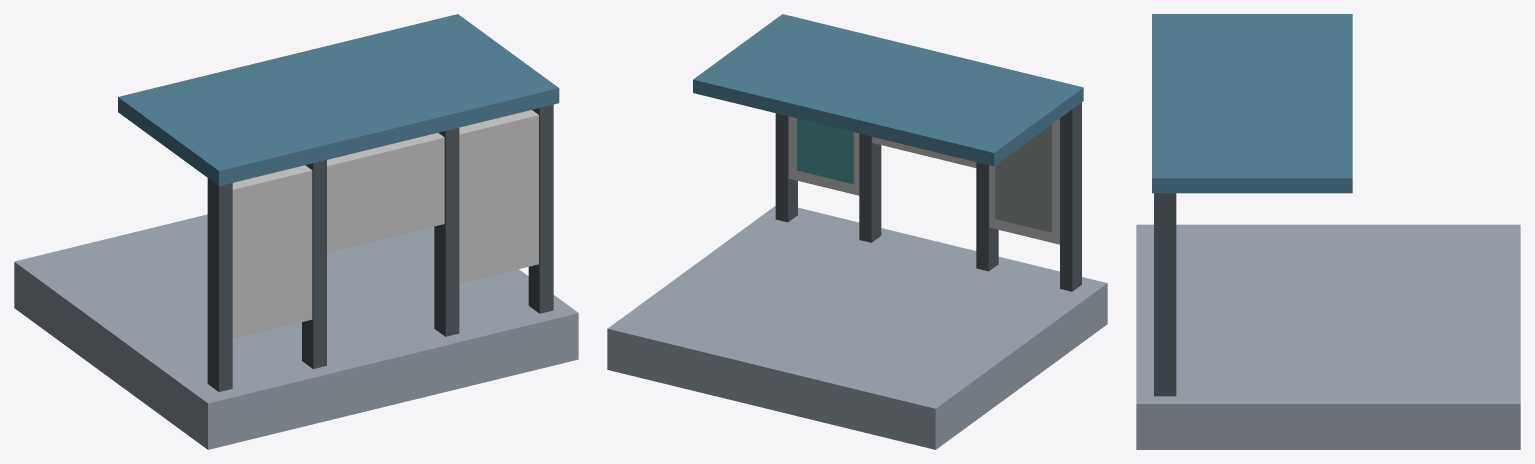
File: Busstop.fbx
3 renders of one model, left to right at view 1: azimuth 30°, elevation 25°; view 2: azimuth 150°, elevation 25°; view 3: azimuth 270°, elevation 25°, orthographic. The views are drawn at different scales.
Parts seen in each view (by area): view 1: pCube376; view 2: pCube376; view 3: pCube376.
Boxes of the visible parts, <box> form: pCube376: <box>14,14,578,449</box>; pCube376: <box>607,14,1107,449</box>; pCube376: <box>1136,14,1520,449</box>.
Size of the model in its own units: 0.344 by 0.2381 by 0.3116.
